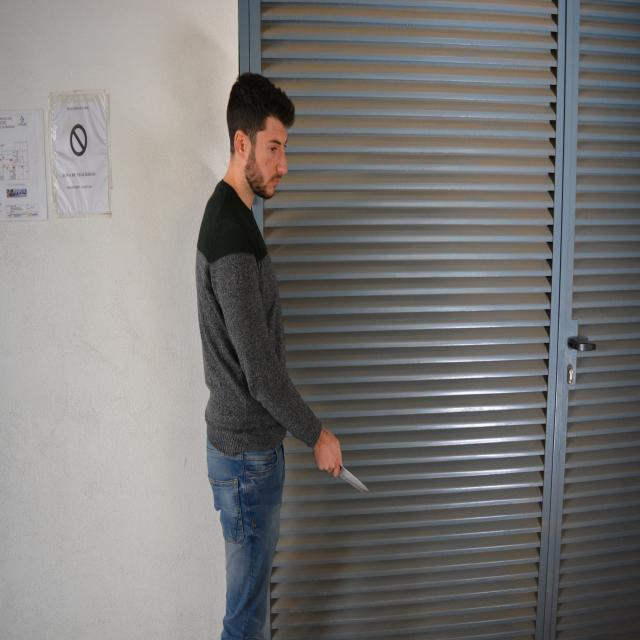knife: (336, 457, 373, 505)
